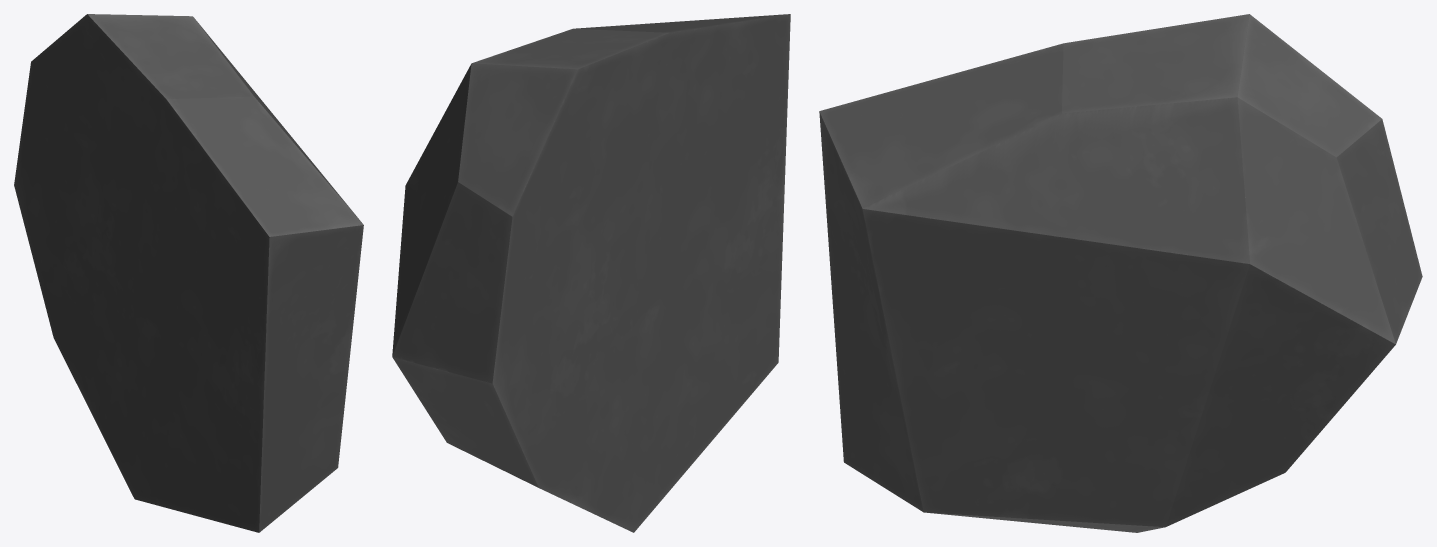
The picture shows the model from 3 angles, left to right: view 1: azimuth 30°, elevation 25°; view 2: azimuth 150°, elevation 25°; view 3: azimuth 270°, elevation 25°; orthographic projection. The views are drawn at different scales.
Parts seen in each view (by area): view 1: Object_3; view 2: Object_3; view 3: Object_3.
Part boxes in pixels (x1,y1,x2,y2): Object_3: [14, 14, 363, 532]; Object_3: [392, 14, 790, 532]; Object_3: [819, 14, 1422, 532].
Bounding box in the file's own units: 0.0839 × 0.2282 × 0.2402.
1 material, 1 textured.
